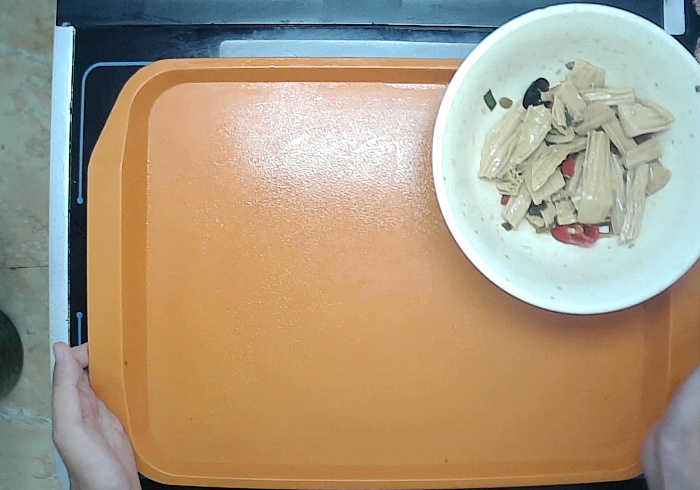ZNLD-Da_Tang_Wan: (428, 1, 700, 319)
